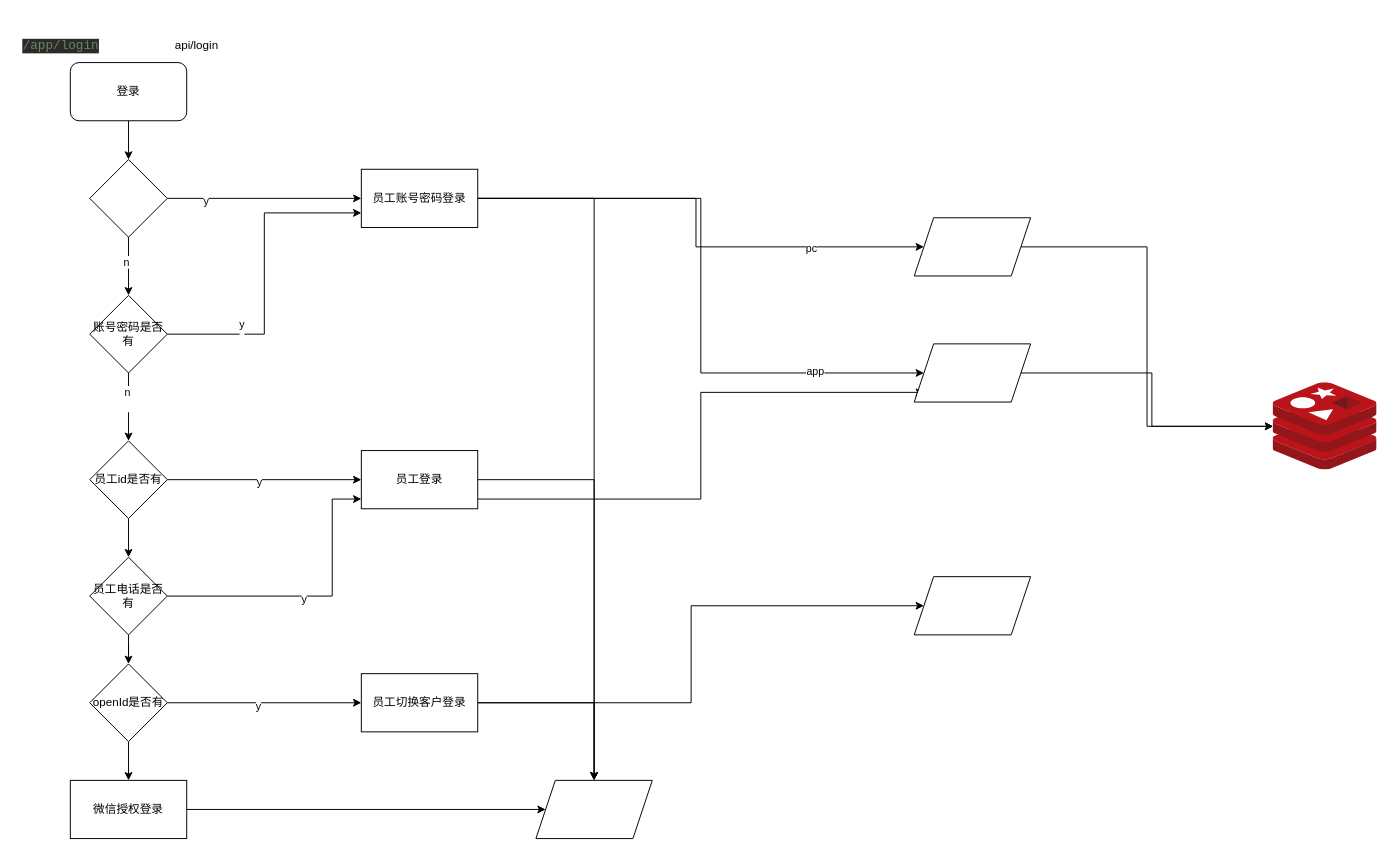
The diagram is 1394 pixels wide and 856 high, and some of its shapes have lost their labels. The centre of each missing label's shape, as x and y in pixels:
app:erp-1284app1: (972,372)
erp-user-271app1: (972,605)
isPc: (128,198)
pc:erp-1284: (972,246)
Result accountData: (593,809)
